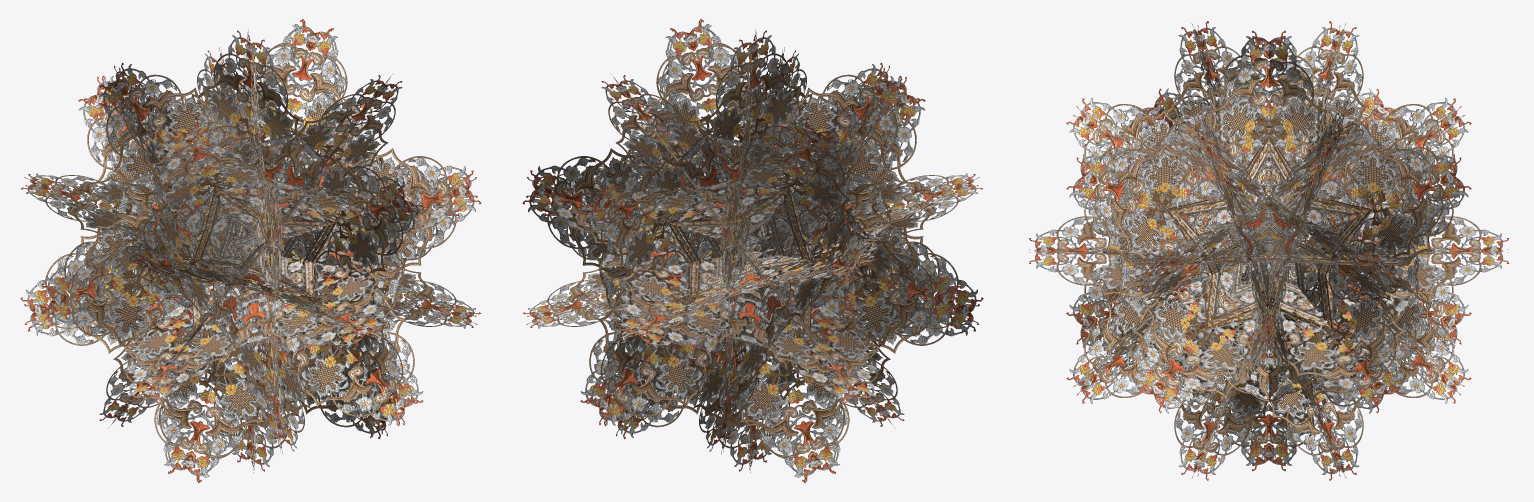
The model's file is GreatDodecahemicosahedron11.gltf.
3 renders of one model, left to right at view 1: azimuth 30°, elevation 25°; view 2: azimuth 150°, elevation 25°; view 3: azimuth 270°, elevation 25°, orthographic.
Parts seen in each view (by area): view 1: GreatDodecahemicosahedron; view 2: GreatDodecahemicosahedron; view 3: GreatDodecahemicosahedron.
Boxes of the visible parts, box(x1,y1,x2,y2) form: GreatDodecahemicosahedron: box(20, 19, 481, 482); GreatDodecahemicosahedron: box(522, 19, 983, 482); GreatDodecahemicosahedron: box(1028, 21, 1509, 480).
Bounding box in the file's own units: 2 × 2 × 2.
1 material, 1 textured.
